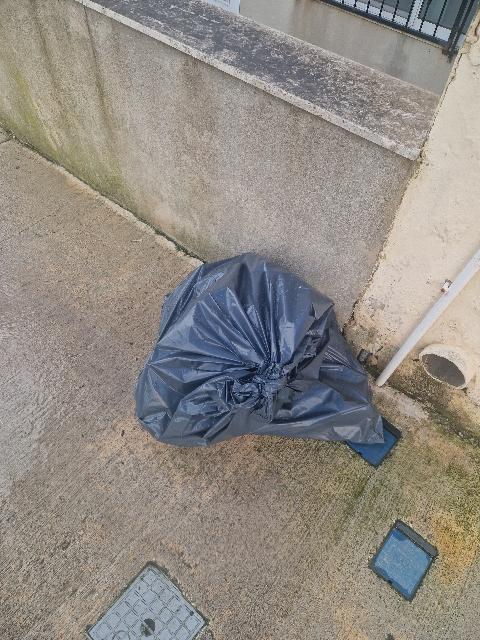Recyclable -Grey-: (135, 253, 383, 446)
